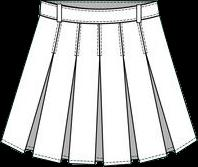Hemline: (0, 140, 197, 166)
Waistline: (39, 14, 159, 25), (42, 0, 156, 8)
